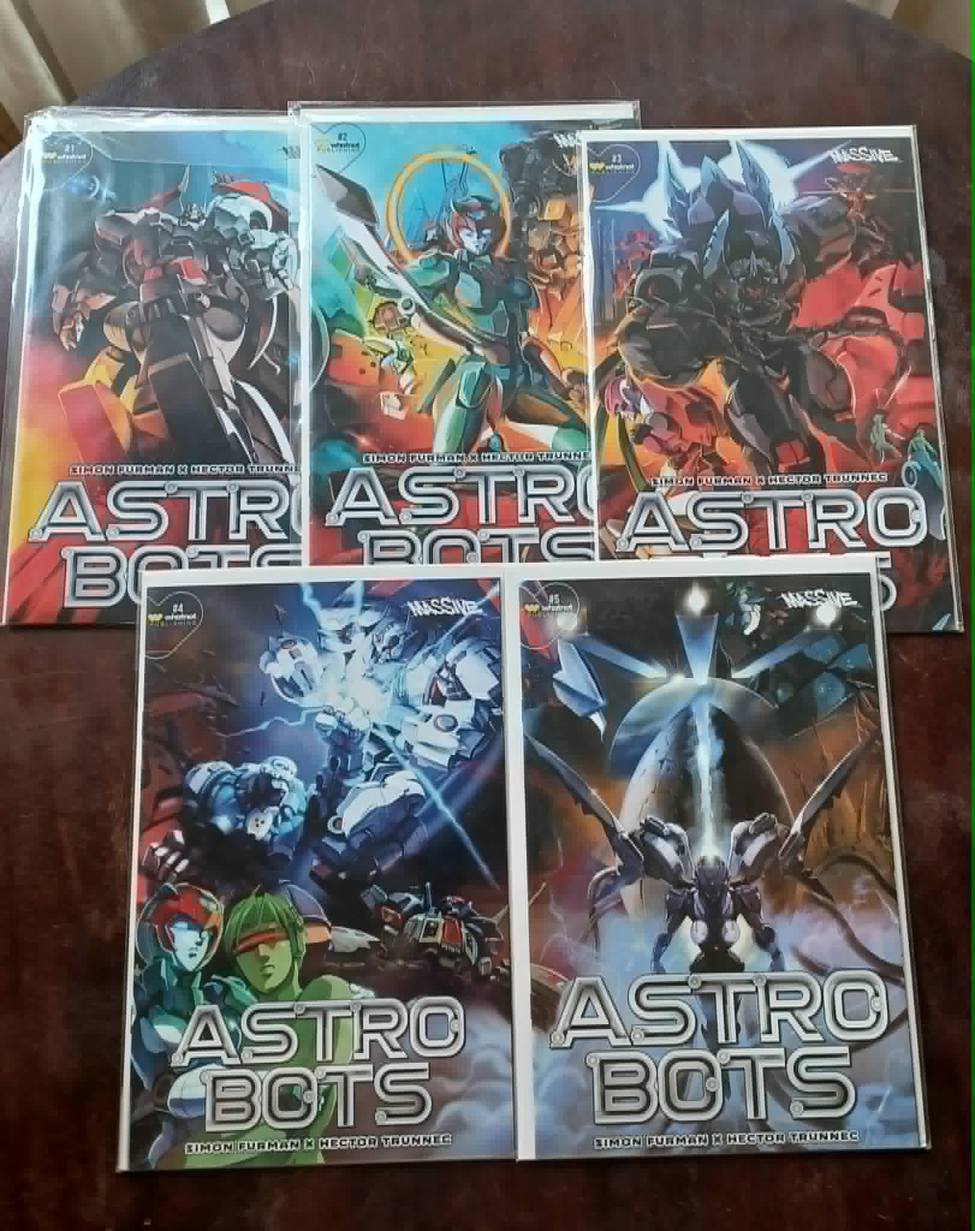comic: (498, 551, 927, 1163), (118, 569, 512, 1169), (575, 114, 961, 648), (294, 102, 641, 565), (5, 108, 300, 623)
